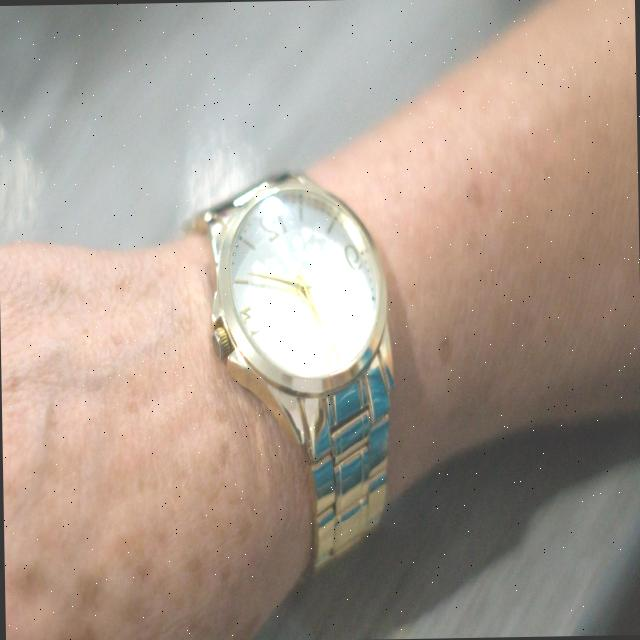Wrist watch: (180, 166, 397, 620)
